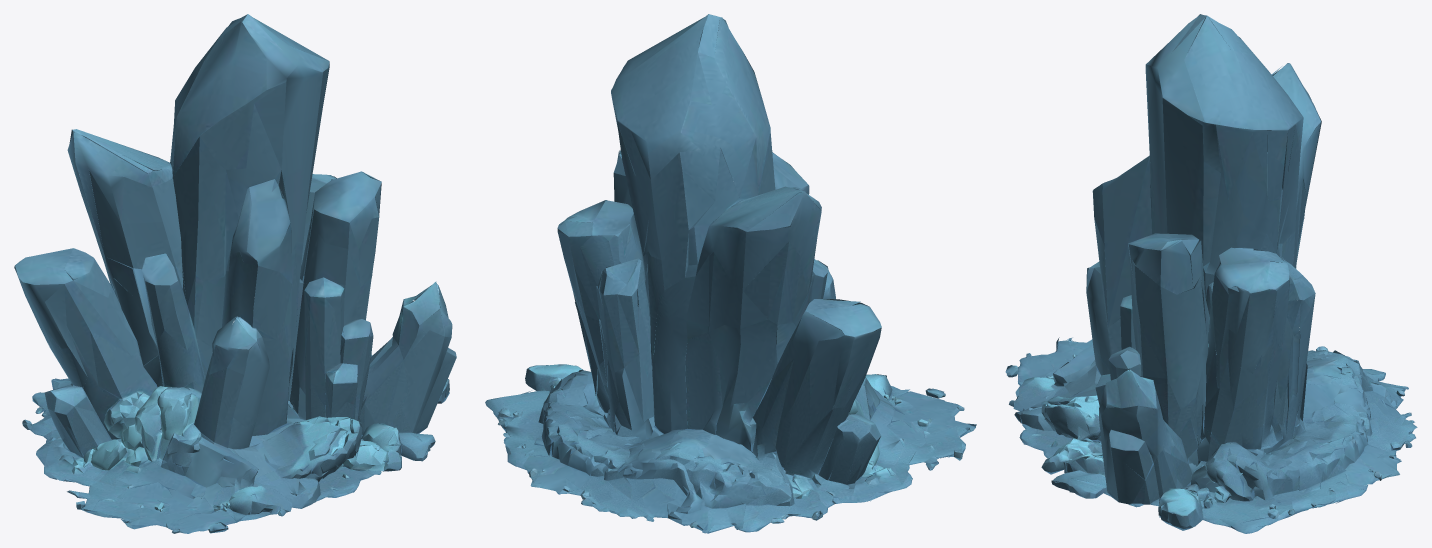
Rendered from ice_crystals.glb.
The picture shows the model from 3 angles, left to right: view 1: azimuth 30°, elevation 25°; view 2: azimuth 150°, elevation 25°; view 3: azimuth 270°, elevation 25°; orthographic projection.
Visible parts, largest first — view 1: Mesh_0; view 2: Mesh_0; view 3: Mesh_0.
Boxes of the visible parts, box(x1,y1,x2,y2) form: Mesh_0: box(14, 14, 456, 533); Mesh_0: box(485, 14, 976, 533); Mesh_0: box(1005, 14, 1417, 533).
Bounding box in the file's own units: 1.96 × 1.9 × 1.68.
1 material, 1 textured.
